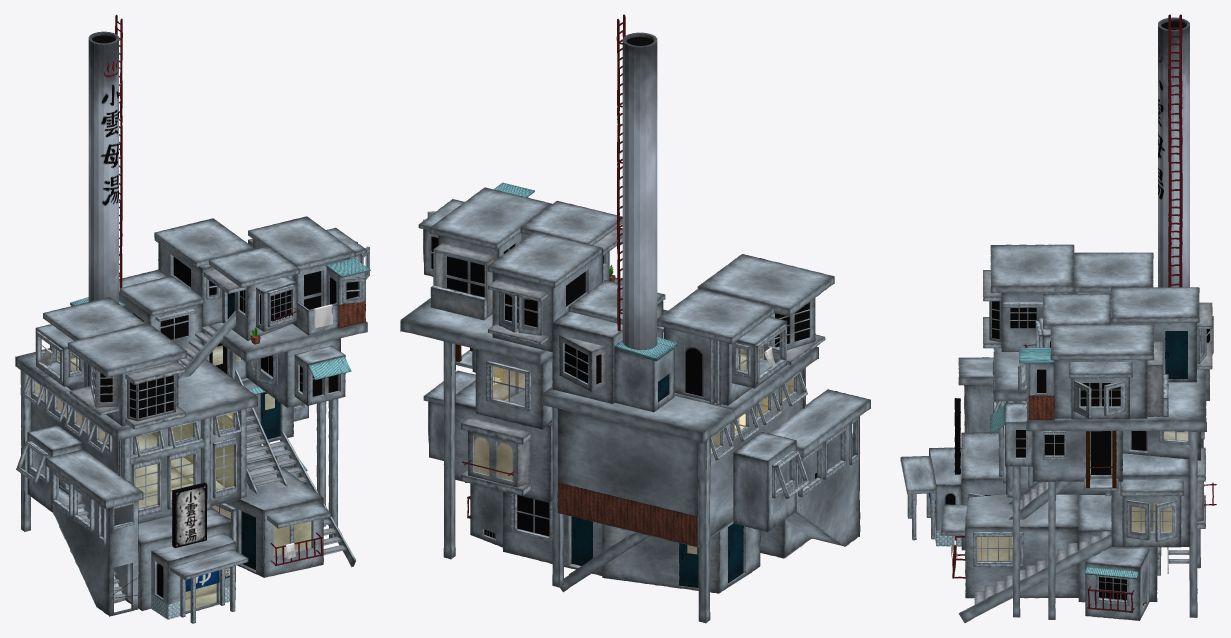
File: kyoju003b.glb
3 views of the same model, side by side, from view 1: azimuth 30°, elevation 25°; view 2: azimuth 150°, elevation 25°; view 3: azimuth 270°, elevation 25° (orthographic). The views are drawn at different scales.
Visible parts, largest first — view 1: Cylinder.002, Plane.158, Plane.135, Plane.169, Plane.372, Plane.138, Plane.368, Plane.154, Plane.166, Plane.366, Plane.132, Plane.373 (+51 smaller); view 2: Plane.158, Cylinder.002, Plane.134, Plane.156, Plane.170, Plane.372, texture.194, Plane.368, Plane.171, Plane.373, Plane.366, Plane.200 (+37 smaller); view 3: Plane.135, Cylinder.002, Plane.372, Plane.198, Plane.173, Plane.368, Plane.142, Plane.177, Plane.366, Plane.373, Plane.132, Plane.012 (+37 smaller).
Boxes of the visible parts, x1,y1,x2,y2 form: Cylinder.002: (88,31,118,302); Plane.158: (31,380,241,523); Plane.135: (192,458,323,577); Plane.169: (42,359,257,440); Plane.372: (67,323,187,377); Plane.138: (151,533,235,618); Plane.368: (248,216,355,269); Plane.154: (53,501,109,615); Plane.166: (46,449,143,509); Plane.366: (154,218,254,267); Plane.132: (130,500,231,610); Plane.373: (43,297,145,340); Plane.158: (557,369,805,547); Cylinder.002: (622,32,657,350); Plane.134: (602,521,760,593); Plane.156: (733,432,796,532); Plane.170: (542,387,734,443); Plane.372: (697,254,834,316); texture.194: (558,482,697,546); Plane.368: (429,187,551,249); Plane.171: (475,349,552,429); Plane.373: (657,288,774,344); Plane.366: (487,231,602,287); Plane.200: (492,249,603,352); Plane.135: (964,494,1078,598); Cylinder.002: (1158,17,1189,287); Plane.372: (990,244,1074,293); Plane.198: (1026,369,1206,431); Plane.173: (1032,431,1122,481); Plane.368: (1050,324,1154,360); Plane.142: (1111,453,1190,547); Plane.177: (1085,548,1149,620); Plane.366: (1111,287,1199,322); Plane.373: (1074,252,1153,292); Plane.132: (961,432,1005,550); Plane.012: (1168,14,1182,287).
Size of the model in its own units: 1.74 by 2.53 by 1.34.
5 materials, 2 textured.
